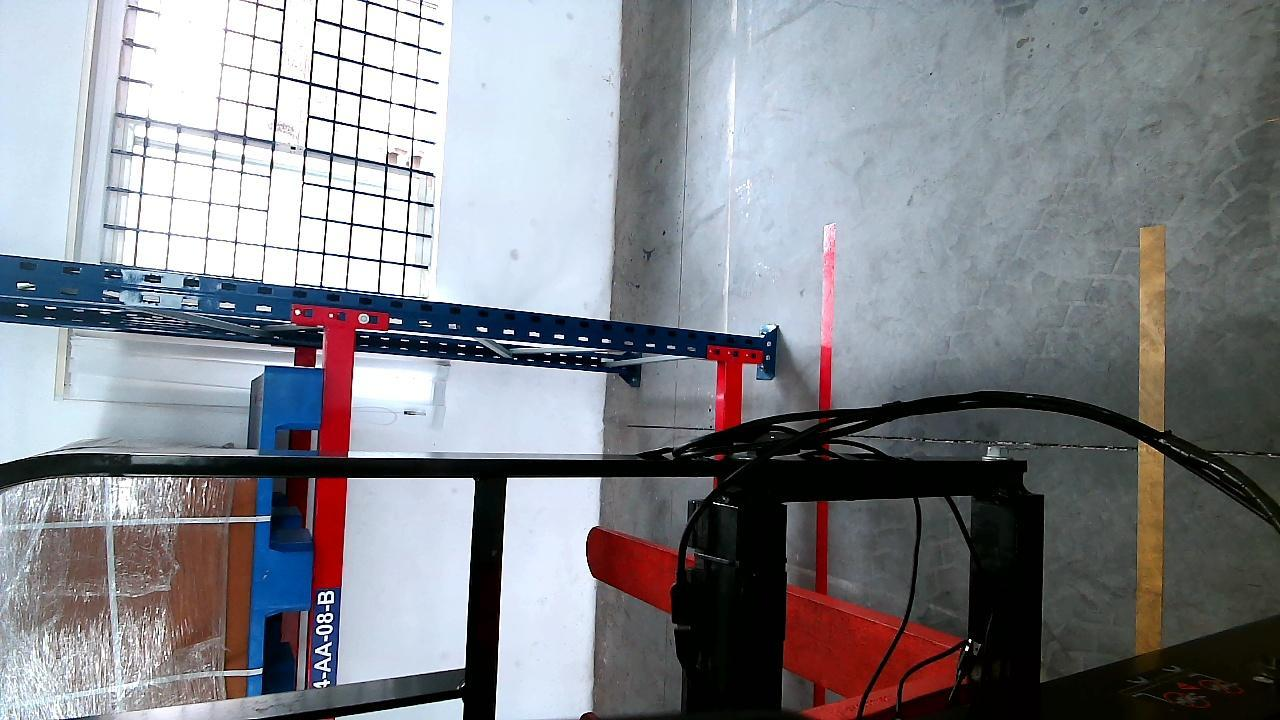red_line: (814, 218, 838, 596)
yellow_line: (1137, 213, 1164, 668)
